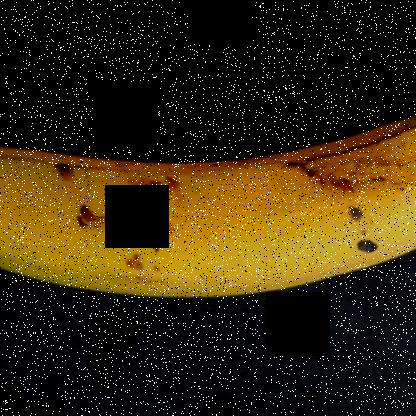ripe: (0, 93, 414, 308)
